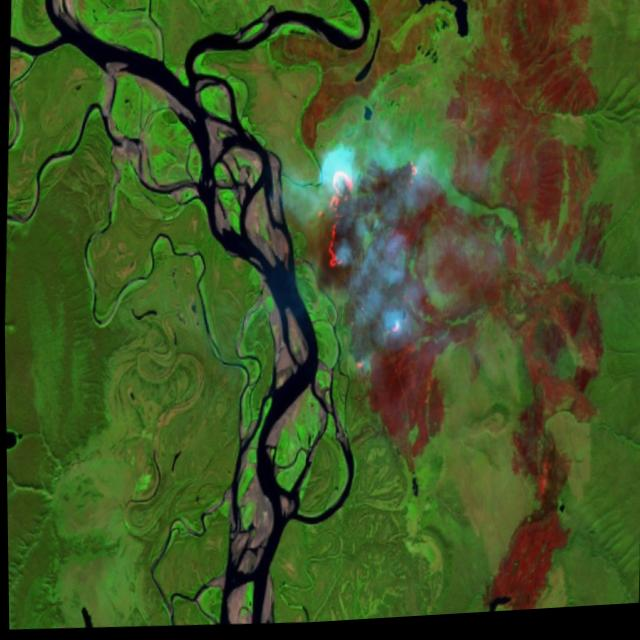fire: (308, 146, 425, 290)
